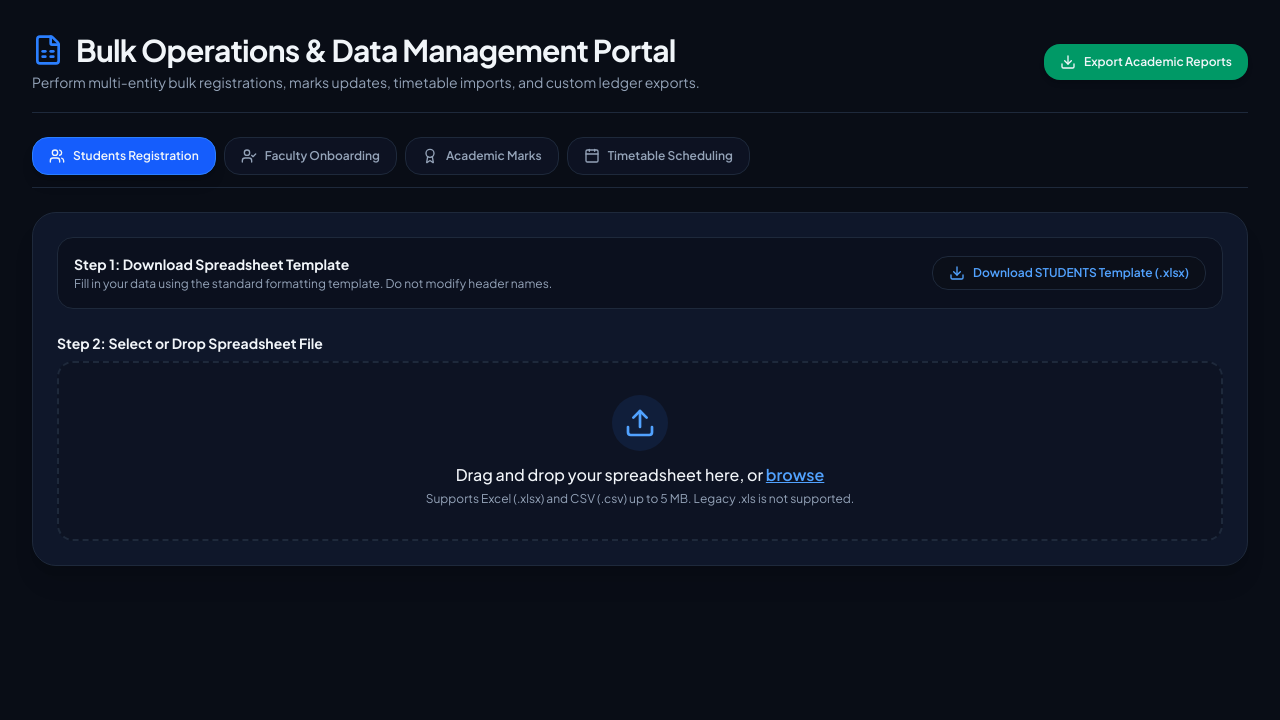
Scenario: Phase 8B: Bulk Import/Export Frontend Tests › 9. Timetable Draft Schedule Filtering › No draft schedule shows guidance message
The width and height of the screenshot is (1280, 720).
Click the button "Timetable Scheduling".
click(658, 156)  # box [567,137,750,175]
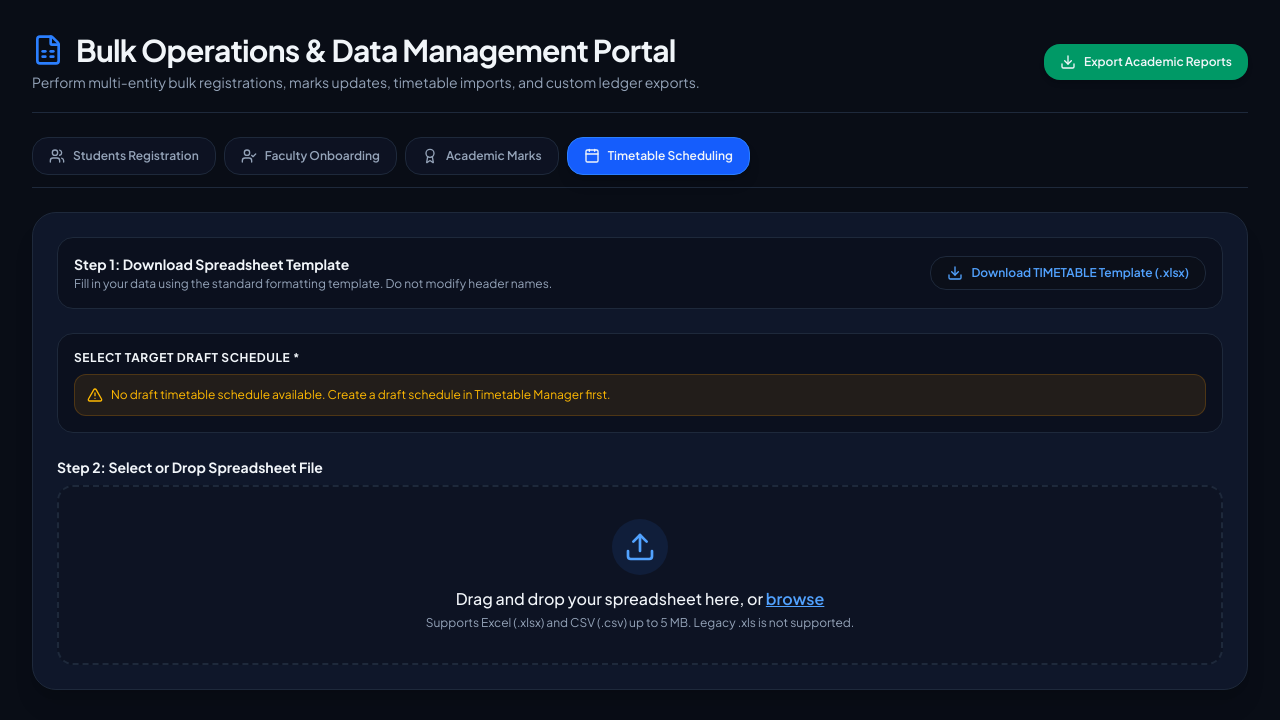
Now the text "No draft timetable schedule available" is shown, box [111,387,610,402]
